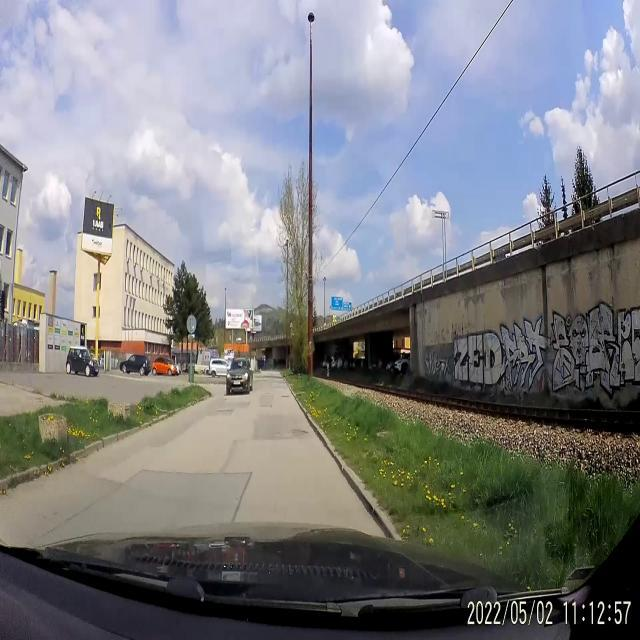Pothole: (286, 422, 314, 440), (278, 392, 292, 403), (216, 406, 234, 414)
